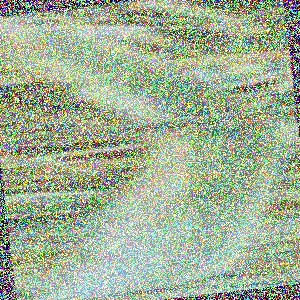Leaf_Blast: (92, 31, 272, 290)
